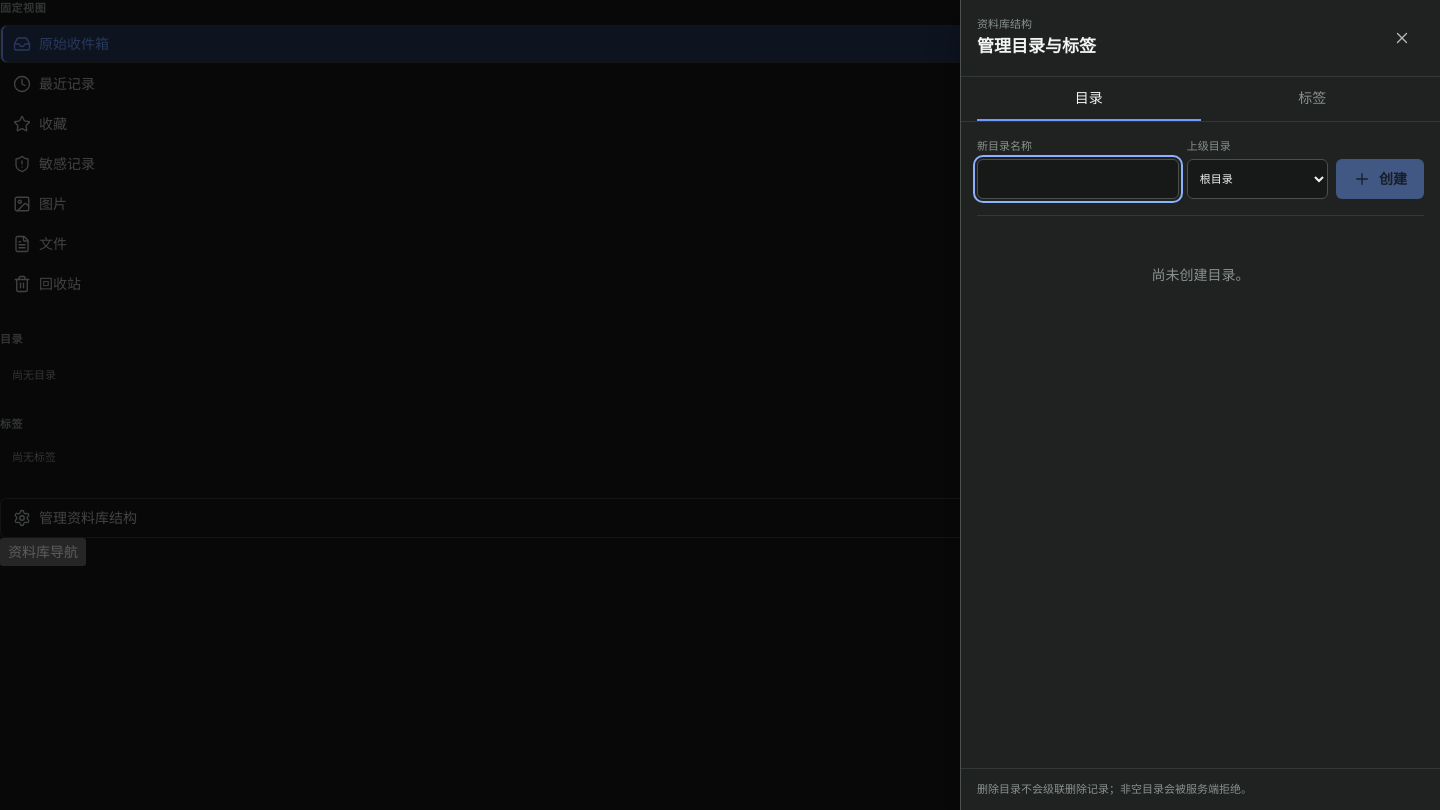
Scenario: LibraryManageDrawer 跨尺寸关闭回焦（DT-R290） › 移动尺寸打开→宽屏关闭：原移动入口隐藏失效，回焦导航内可见的桌面管理入口
expect the button "管理资料库结构" is shown: met, box [0,498,1439,538]
expect the dialog with class "manager" is shown: met, box [960,0,1439,809]
Step 1. Click the button named "关闭管理抽屉" → (1402, 38), box [1380,16,1424,60]
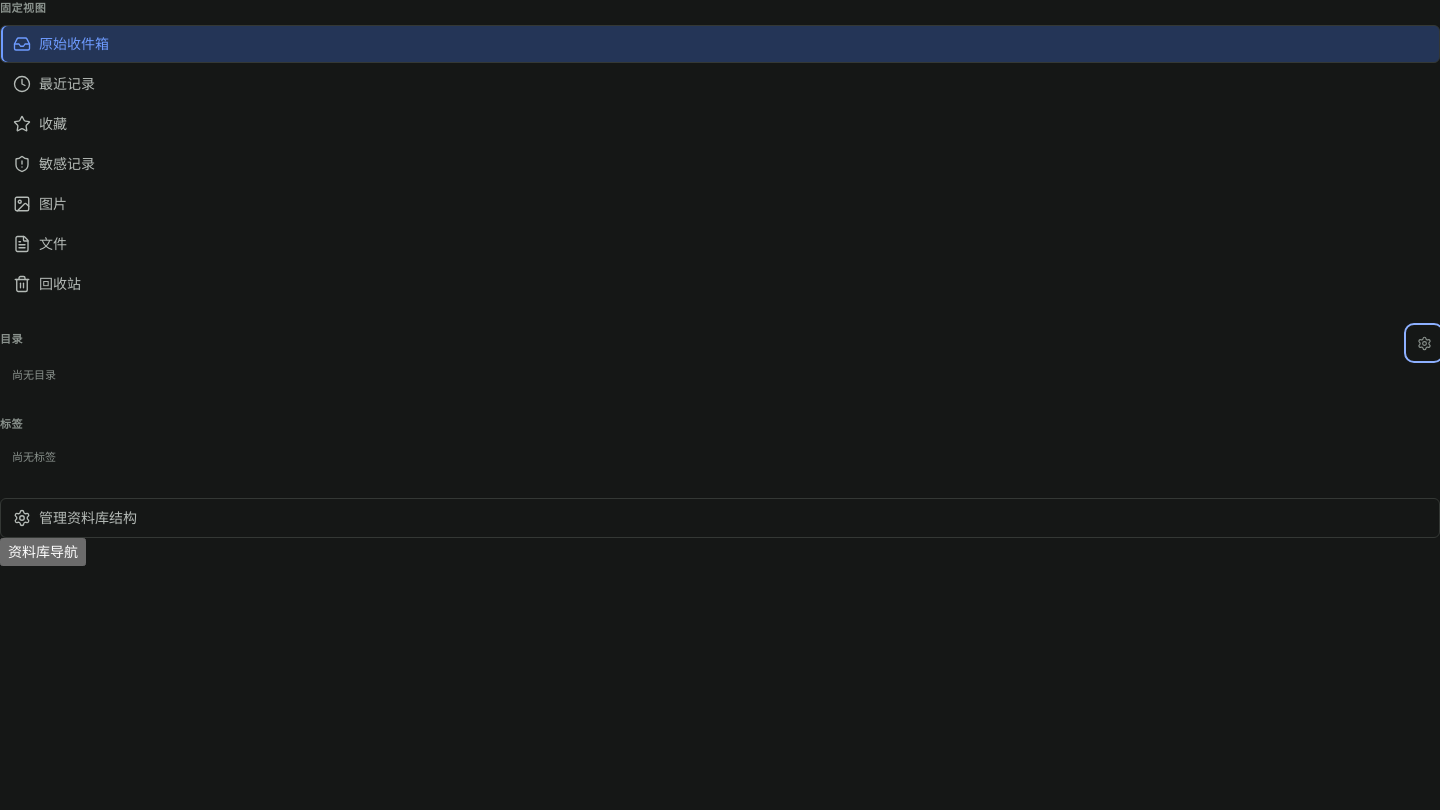
expect the dialog with class "manager" is gone: met
